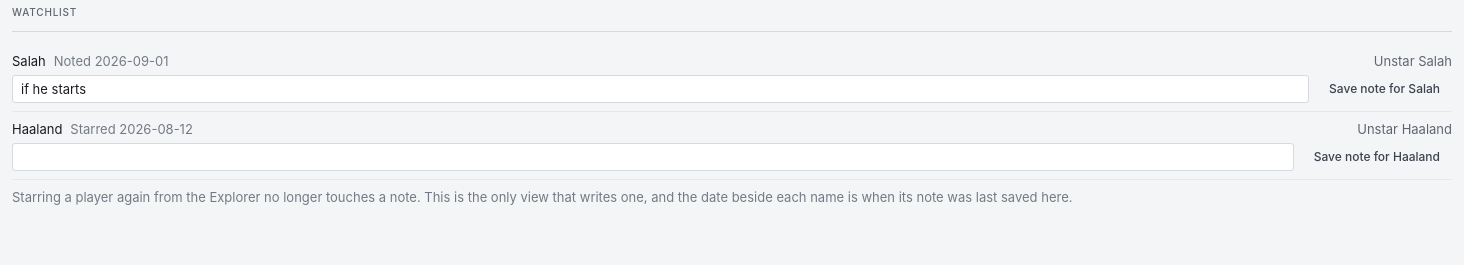
Test: WatchlistTab › shows a failed save beside the row and keeps the typing
Type "x" into the field named "note for Haaland".
click(653, 157); type("x")  # box top-left (12, 143), bottom-right (1294, 171)
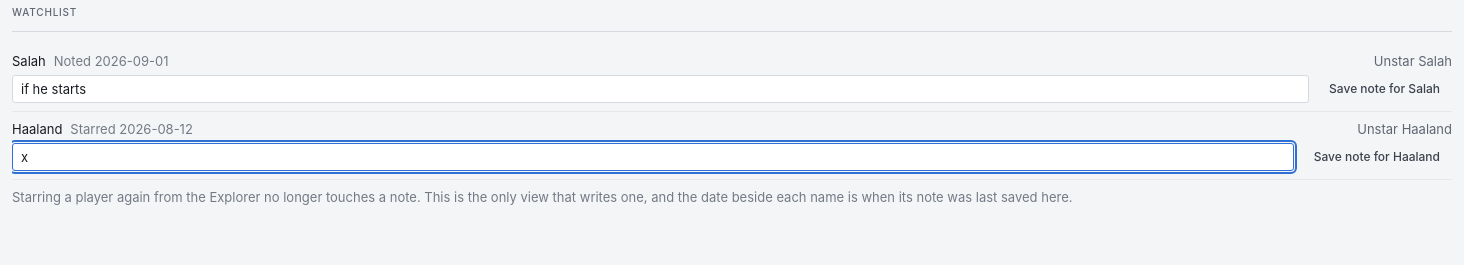
Click the button "Save note for Haaland".
click(1377, 157)  # box top-left (1302, 143), bottom-right (1452, 171)
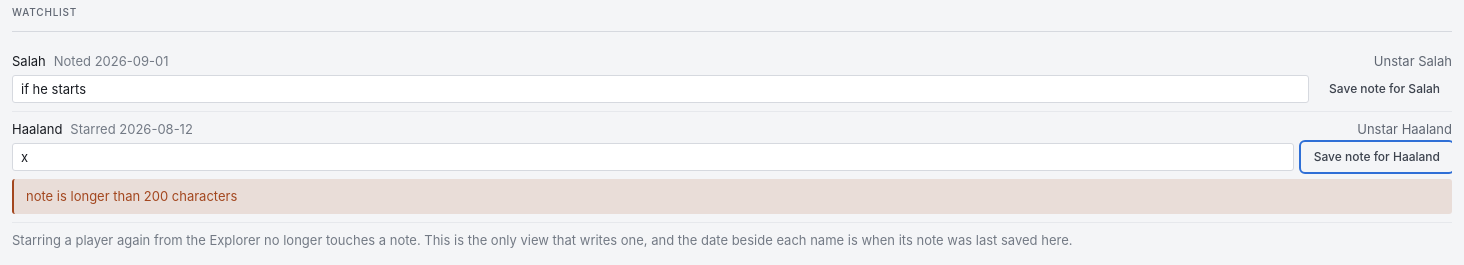
Check: the element with test id "watchlist-error-200" shows "longer than 200", box top-left (26, 188), bottom-right (237, 204)
